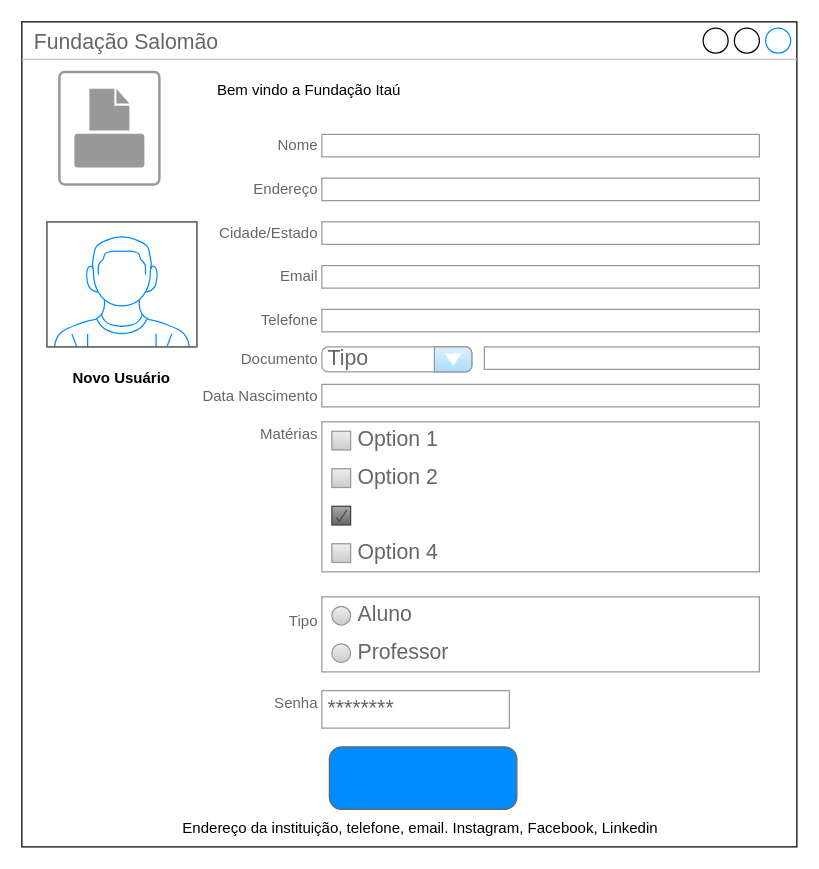
This 819x869 diagram has some shape labels left out. Each missing label, with the centre of its shape:
"Option 3" goes at pixel 341 515.
"Salvar" goes at pixel 422 777.
